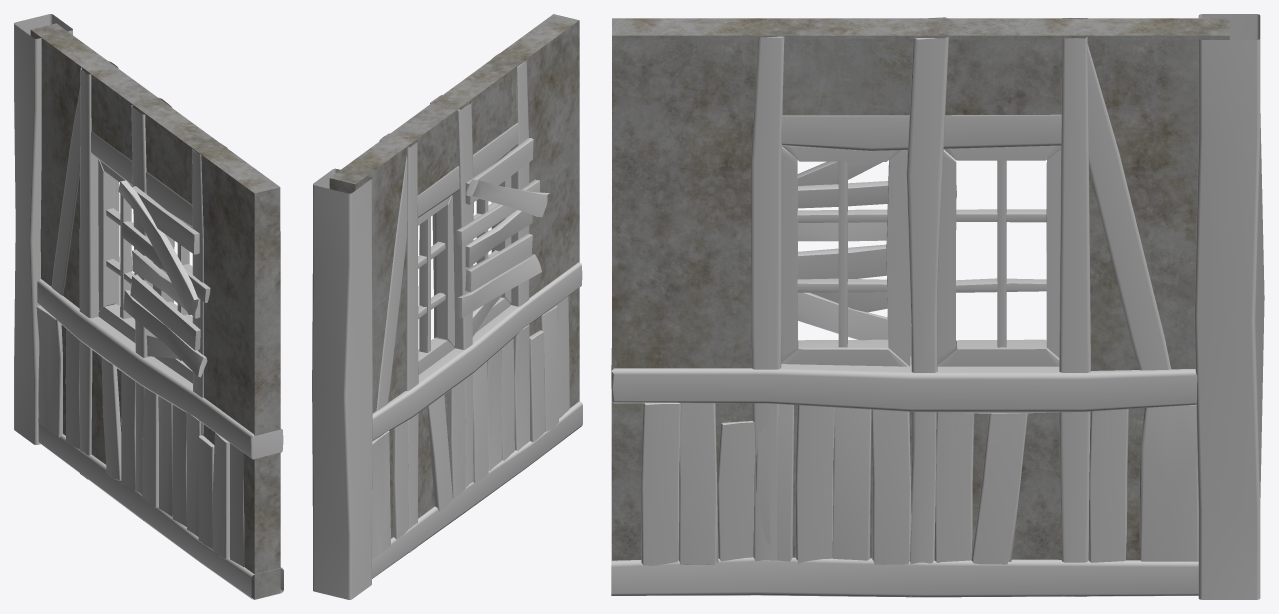
The model's file is SM_Wall46.fbx.
The picture shows the model from 3 angles, left to right: view 1: azimuth 30°, elevation 25°; view 2: azimuth 150°, elevation 25°; view 3: azimuth 270°, elevation 25°; orthographic projection. The views are drawn at different scales.
Parts seen in each view (by area): view 1: SM_Wall46_LOD0; view 2: SM_Wall46_LOD0; view 3: SM_Wall46_LOD0.
Boxes of the visible parts, x1,y1,x2,y2 form: SM_Wall46_LOD0: (14, 14, 283, 599); SM_Wall46_LOD0: (312, 14, 582, 599); SM_Wall46_LOD0: (611, 14, 1264, 599).
Size of the model in its own units: 39.94 by 317 by 302.
